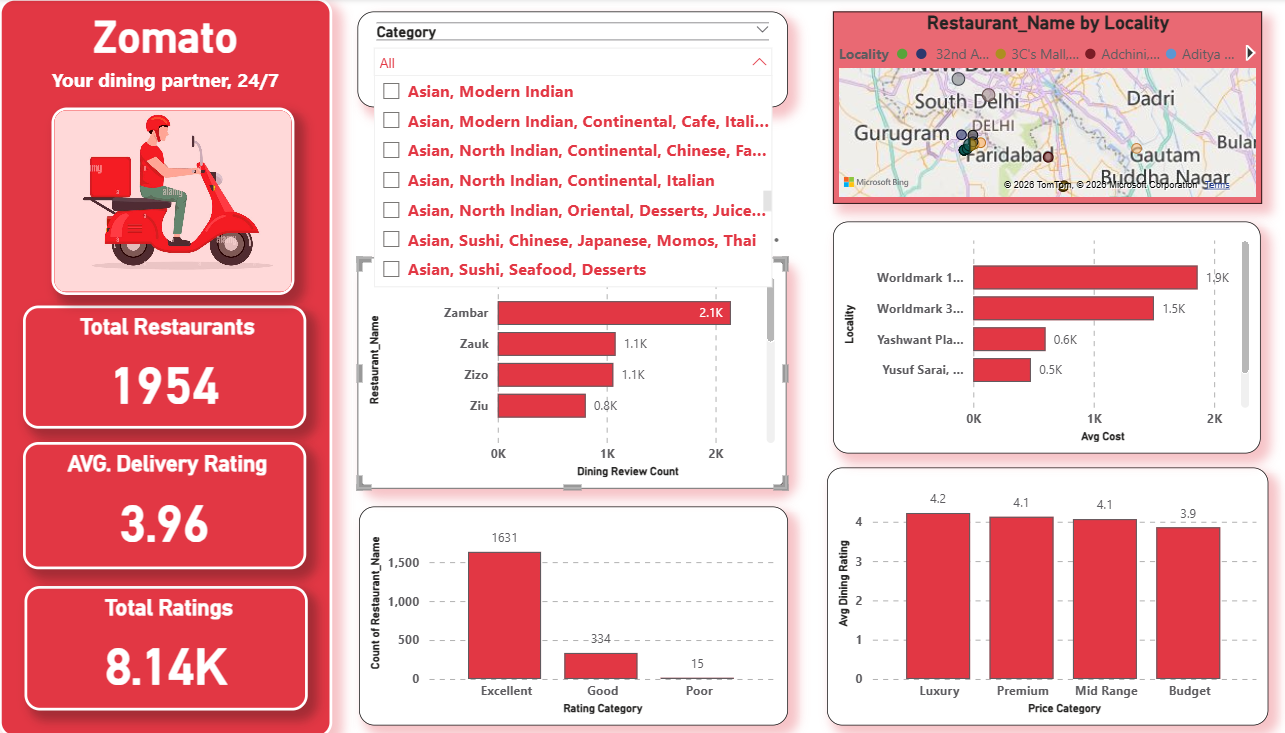

This screenshot's page, from the dashboard's own definition file:
{"tool":"powerbi","page":{"name":"Page 1","canvas":[1280,720],"ordinal":0},"visuals":[{"type":"shape","box":[0,0,324.4,720.5],"z":0},{"type":"textbox","title":"Zomato","box":[0,13.2,324.4,87.7],"z":1000},{"type":"card","title":"Total Restaurants","fields":{"Values":["Zomato.Total Restaurants"]},"box":[23.4,299.6,276.2,119.8],"z":2000},{"type":"card","title":"Total Ratings","fields":{"Values":["Zomato.Total Ratings"]},"box":[24.8,572.9,276.2,121.3],"z":3000},{"type":"image","box":[51.2,106.7,236.8,182.7],"z":4000},{"type":"card","title":"AVG. Delivery Rating","fields":{"Values":["Zomato.Avg Delivery Rating"]},"box":[23.4,432.6,276.2,124.2],"z":5000},{"type":"barChart","fields":{"Y":["Sum(Zomato.Dining_Review_Count)"],"Category":["Zomato.Restaurant_Name"]},"box":[349.3,217.8,418,225.1],"z":6000},{"type":"columnChart","fields":{"Category":["Zomato.Price Category"],"Y":["Zomato.Avg Dining Rating"]},"box":[806.7,457.4,429.7,251.4],"z":8000},{"type":"barChart","fields":{"Category":["Zomato.Locality"],"Y":["Zomato.Avg Cost"]},"box":[813.2,217.9,416.8,225.8],"z":9000},{"type":"columnChart","fields":{"Category":["Zomato.Rating Category"],"Y":["CountNonNull(Zomato.Restaurant_Name)"]},"box":[350.8,457.4,418,251.4],"z":10000},{"type":"slicer","fields":{"Values":["Zomato.Category"]},"box":[349.3,13.2,419.4,185.6],"z":11000},{"type":"map","title":"Restaurant_Name by Locality","fields":{"Y":["Zomato.Latitude"],"X":["Zomato.Longitude"],"Size":["CountNonNull(Zomato.Restaurant_Name)"],"Series":["Zomato.Locality"]},"box":[812.6,13.2,418,187.1],"z":12000}]}

Visuals, with their boxes in screenshot pixels (x1, y1, x2, y2), scaled from the page's 1280x720 canvas onto the 1285x733 screenshot:
shape: BBox(0, 0, 326, 732)
"Zomato" textbox: BBox(0, 13, 326, 103)
"Total Restaurants" card: BBox(23, 305, 301, 427)
"Total Ratings" card: BBox(25, 583, 302, 707)
image: BBox(51, 109, 289, 295)
"AVG. Delivery Rating" card: BBox(23, 440, 301, 567)
barChart - Sum(Zomato.Dining_Review_Count) x Zomato.Restaurant_Name: BBox(351, 222, 770, 451)
columnChart - Zomato.Price Category x Zomato.Avg Dining Rating: BBox(810, 466, 1241, 722)
barChart - Zomato.Locality x Zomato.Avg Cost: BBox(816, 222, 1235, 452)
columnChart - Zomato.Rating Category x CountNonNull(Zomato.Restaurant_Name): BBox(352, 466, 772, 722)
slicer - Zomato.Category: BBox(351, 13, 772, 202)
"Restaurant_Name by Locality" map: BBox(816, 13, 1235, 204)
